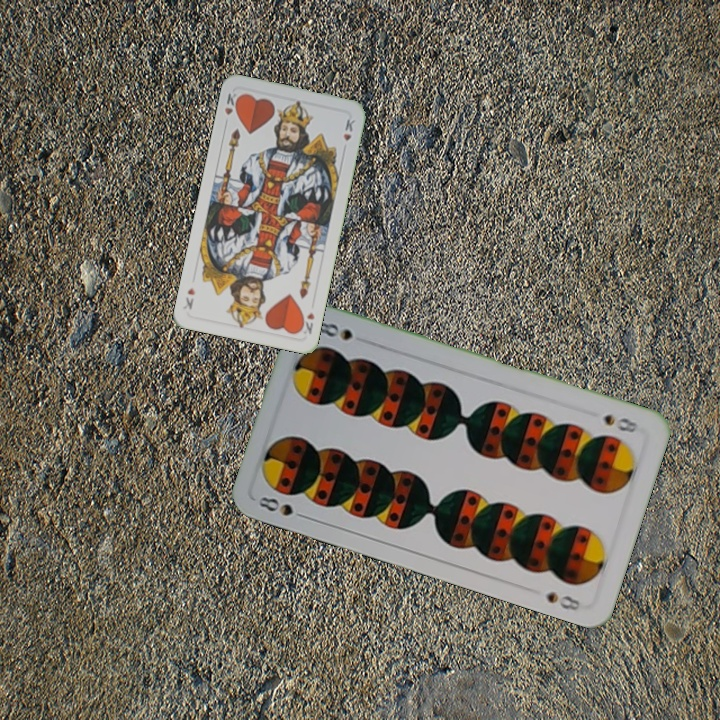HK: (221, 88, 243, 118), (296, 308, 317, 337)
S8: (254, 492, 311, 522), (599, 410, 641, 436)
